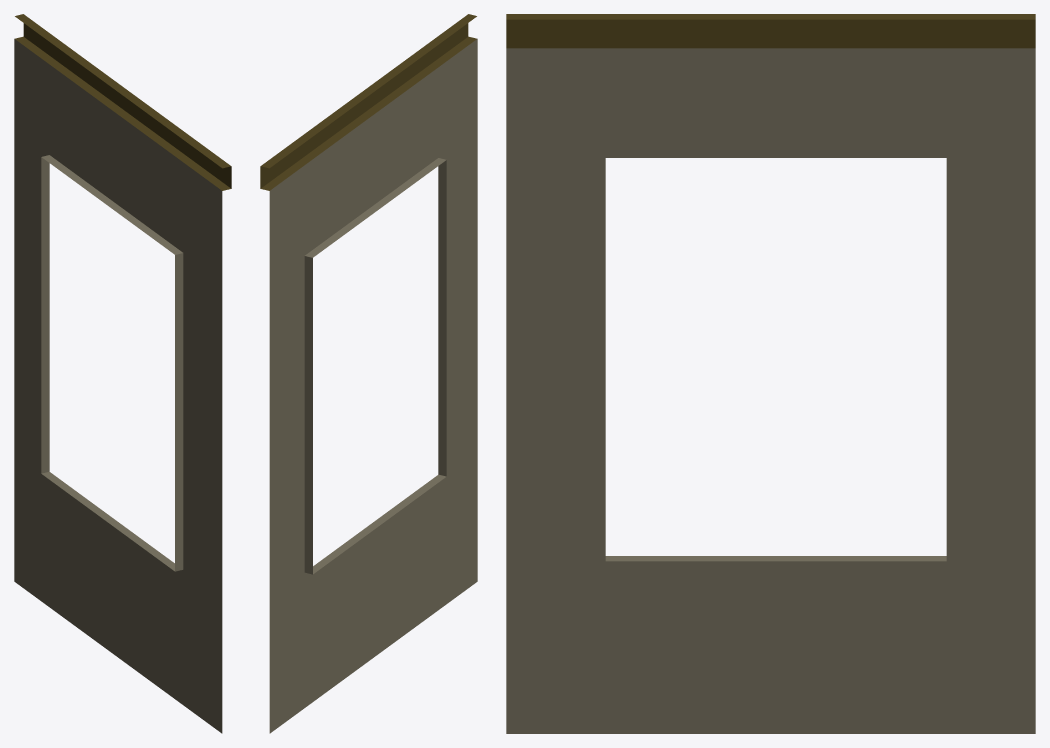
File: GB_Floor1_OneWindow.fbx
The picture shows the model from 3 angles, left to right: view 1: azimuth 30°, elevation 25°; view 2: azimuth 150°, elevation 25°; view 3: azimuth 270°, elevation 25°; orthographic projection. The views are drawn at different scales.
Visible parts, largest first — view 1: OneWindow3; view 2: OneWindow3; view 3: OneWindow3.
Boxes of the visible parts, box(x1,y1,x2,y2) form: OneWindow3: box(14, 14, 231, 733); OneWindow3: box(260, 14, 477, 733); OneWindow3: box(506, 14, 1035, 733).
Size of the model in its own units: 0.0961 by 3 by 2.
